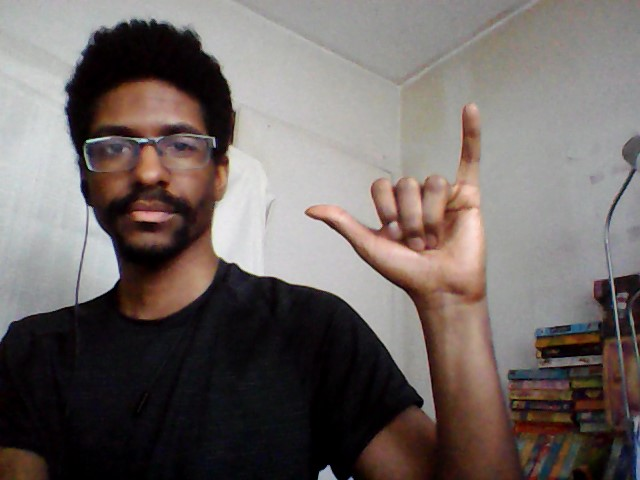y: (299, 98, 498, 300)
